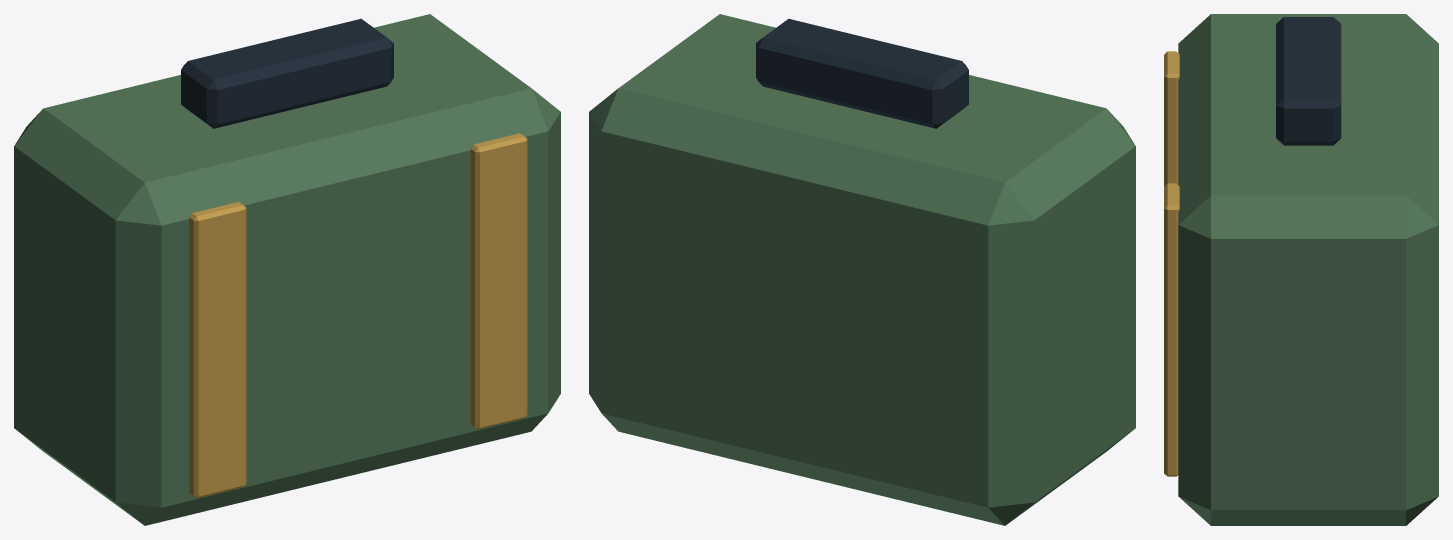
Rendered from fps-ammo-box.lod0.glb.
3 renders of one model, left to right at view 1: azimuth 30°, elevation 25°; view 2: azimuth 150°, elevation 25°; view 3: azimuth 270°, elevation 25°, orthographic. The views are drawn at different scales.
Parts seen in each view (by area): view 1: fps-ammo-box__body; view 2: fps-ammo-box__body; view 3: fps-ammo-box__body.
Boxes of the visible parts, x1,y1,x2,y2 form: fps-ammo-box__body: (14, 14, 560, 525); fps-ammo-box__body: (589, 14, 1135, 525); fps-ammo-box__body: (1164, 14, 1438, 525).
Size of the model in its own units: 0.38 by 0.32 by 0.211.
